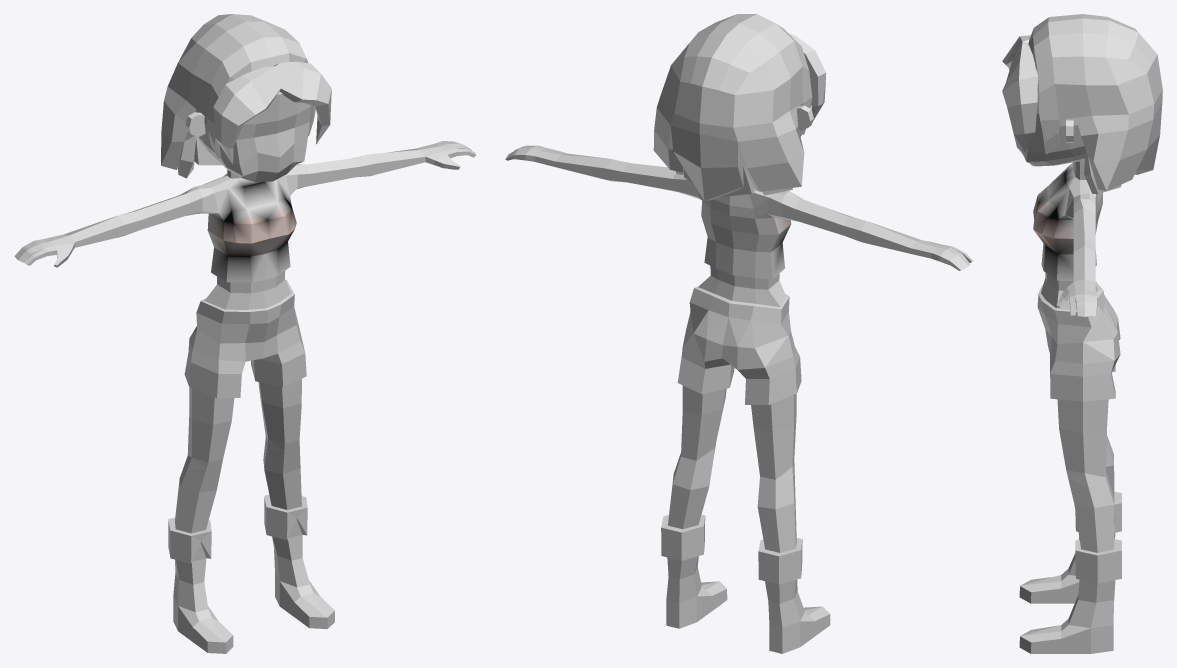
File: Character.fbx
The picture shows the model from 3 angles, left to right: view 1: azimuth 30°, elevation 25°; view 2: azimuth 150°, elevation 25°; view 3: azimuth 270°, elevation 25°; orthographic projection.
Parts seen in each view (by area): view 1: Cube.002, Cube.001; view 2: Cube.002, Cube.001; view 3: Cube.002, Cube.001.
Part boxes in pixels (<box>): Cube.002: <box>14,14,476,653</box>; Cube.001: <box>213,61,331,164</box>; Cube.002: <box>505,14,973,653</box>; Cube.001: <box>788,33,826,120</box>; Cube.002: <box>1014,14,1162,653</box>; Cube.001: <box>1002,35,1037,152</box>.
Bounding box in the file's own units: 303 × 381 × 91.9.
